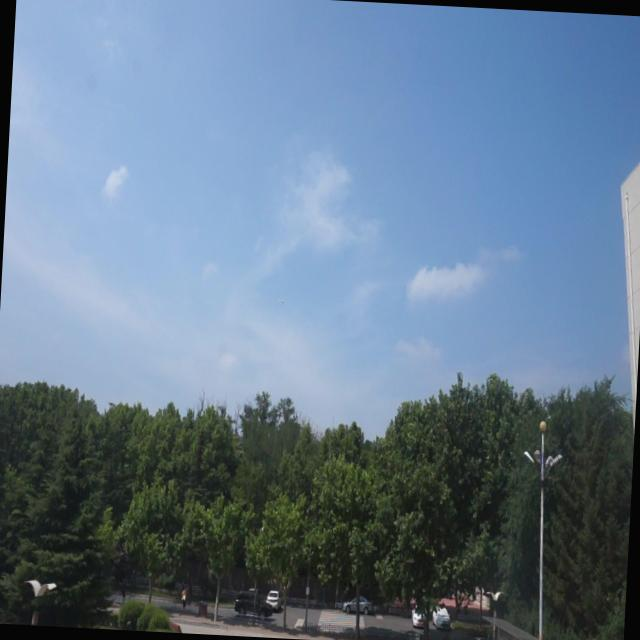drone: (278, 294, 287, 308)
